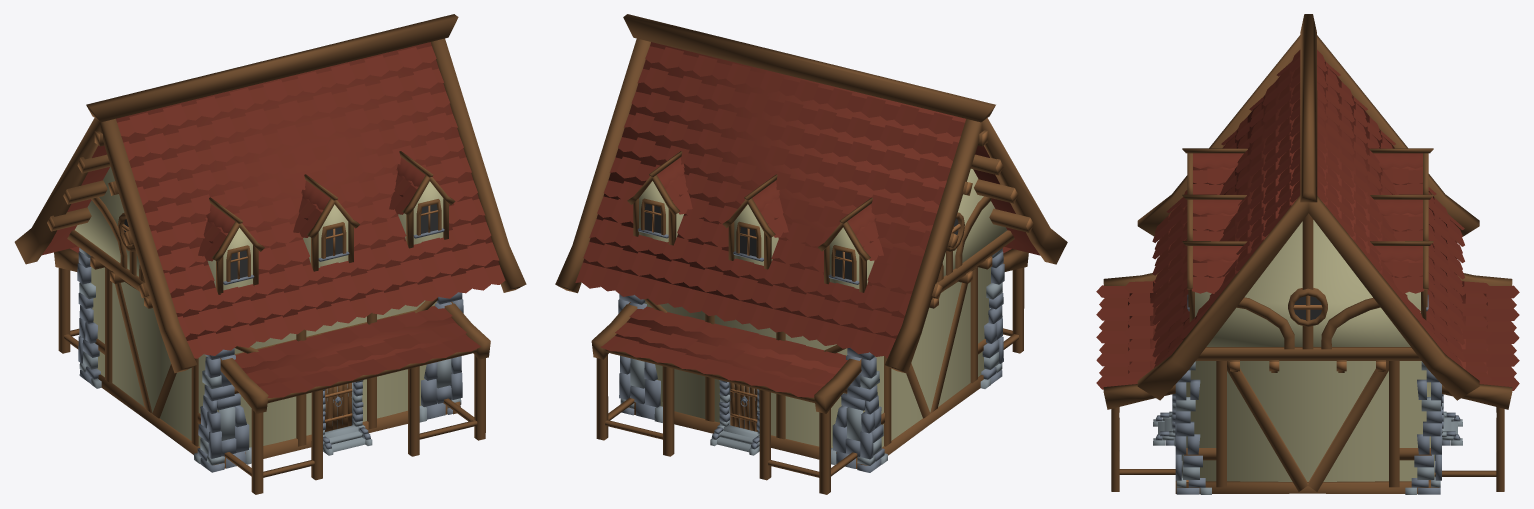
Rendered from inn.008_lev2.glb.
3 views of the same model, side by side, from view 1: azimuth 30°, elevation 25°; view 2: azimuth 150°, elevation 25°; view 3: azimuth 270°, elevation 25° (orthographic).
Parts seen in each view (by area): view 1: inn.008_lev2; view 2: inn.008_lev2; view 3: inn.008_lev2.
Boxes of the visible parts, x1,y1,x2,y2 form: inn.008_lev2: (14,14,526,494); inn.008_lev2: (555,14,1067,494); inn.008_lev2: (1096,14,1519,494).
Size of the model in its own units: 8.06 by 6.98 by 8.04.
